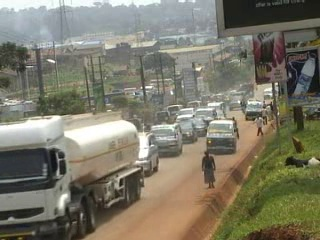Car: (134, 128, 161, 179), (172, 119, 198, 146), (187, 115, 209, 139), (174, 106, 201, 122), (152, 106, 173, 126), (226, 94, 247, 112)
Motorcycle: (237, 97, 250, 114)
